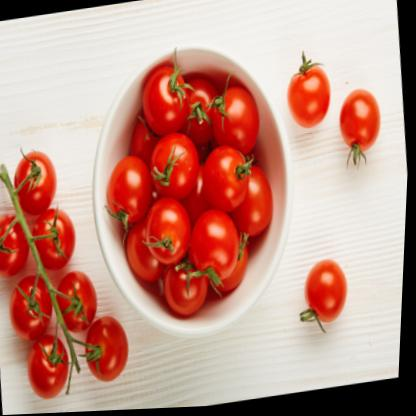---: (95, 51, 292, 328), (0, 125, 146, 412), (290, 254, 364, 347), (274, 51, 340, 149), (329, 84, 397, 166)
